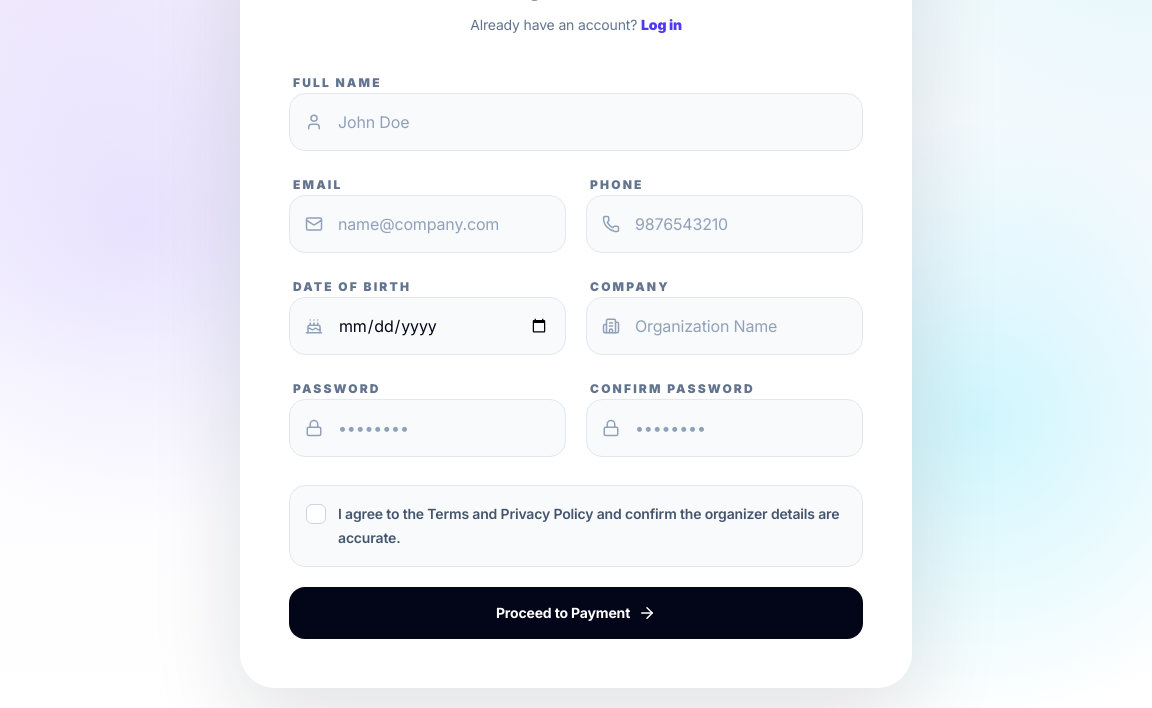
Test: OrganizerRegistration › shows validation errors when the first step is submitted empty
(page scrolled)
Click the button "Proceed to Payment".
click(576, 613)  # box [289,587,863,639]
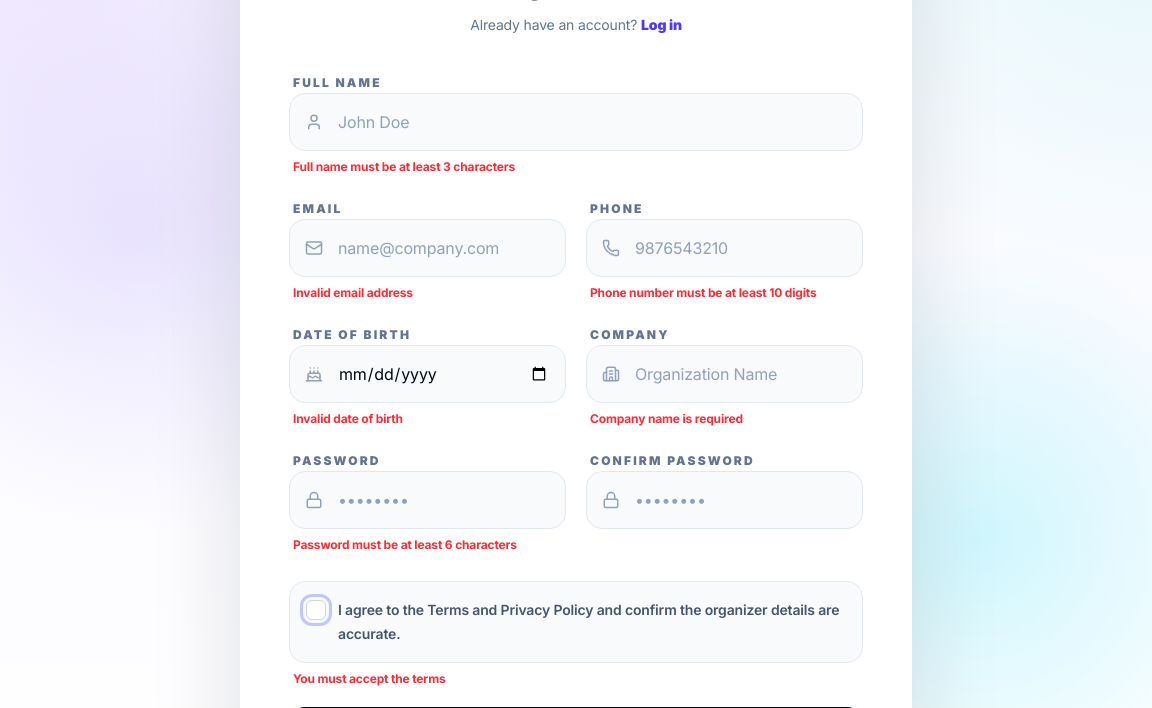
expect the text "Full name must be at least 3 characters" is shown: met, box [293,159,515,174]
expect the text "Invalid email address" is shown: met, box [293,285,413,300]
